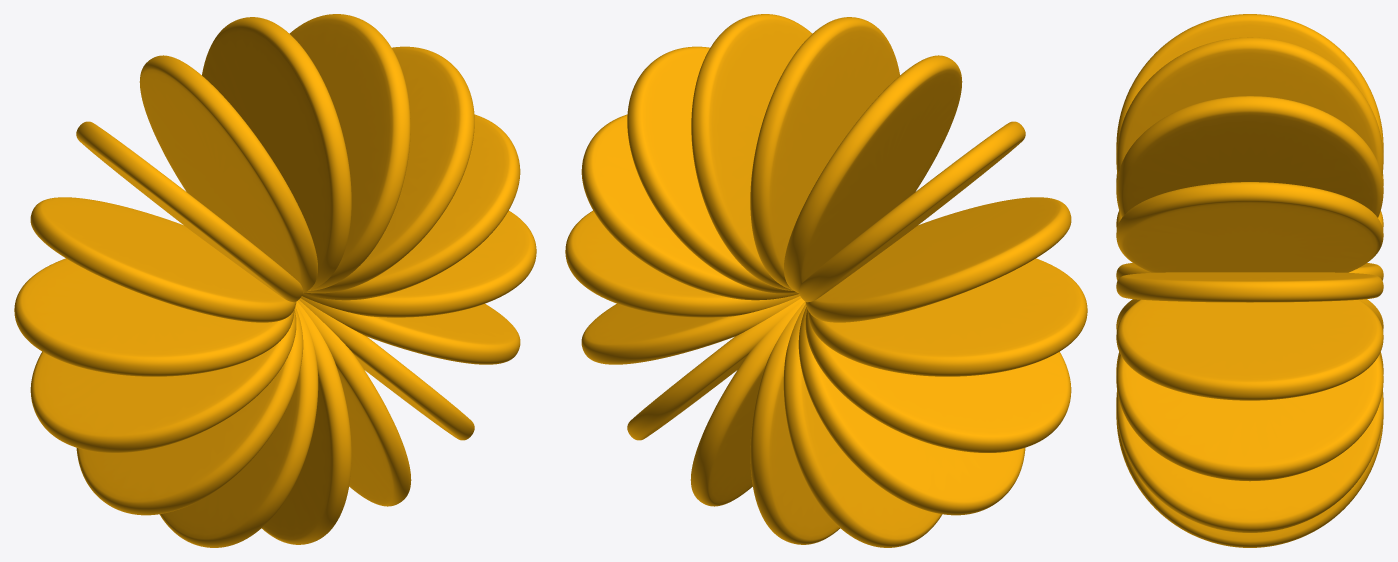
Rendered from circle-abstract-shape-animated-3d-icon-1692045000019.glb.
3 views of the same model, side by side, from view 1: azimuth 30°, elevation 25°; view 2: azimuth 150°, elevation 25°; view 3: azimuth 270°, elevation 25° (orthographic). The views are drawn at different scales.
Parts seen in each view (by area): view 1: Chips; view 2: Chips; view 3: Chips.
Part boxes in pixels (bbox=[...]): Chips: bbox=[14, 14, 536, 547]; Chips: bbox=[565, 14, 1087, 547]; Chips: bbox=[1116, 14, 1383, 547].
Size of the model in its own units: 1.99 by 1.99 by 0.9933.
